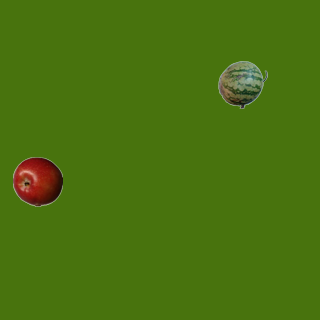Apple Braeburn: (12, 156, 62, 206)
Watermelon: (217, 59, 267, 109)
